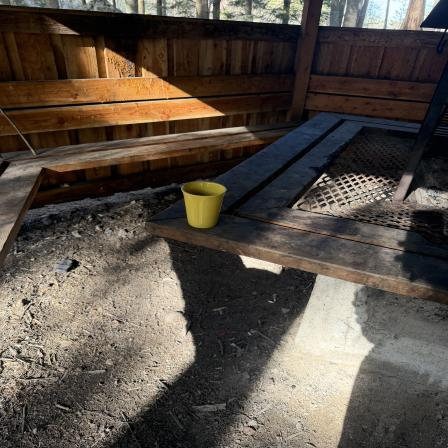yellow_cup: (181, 184, 229, 230)
